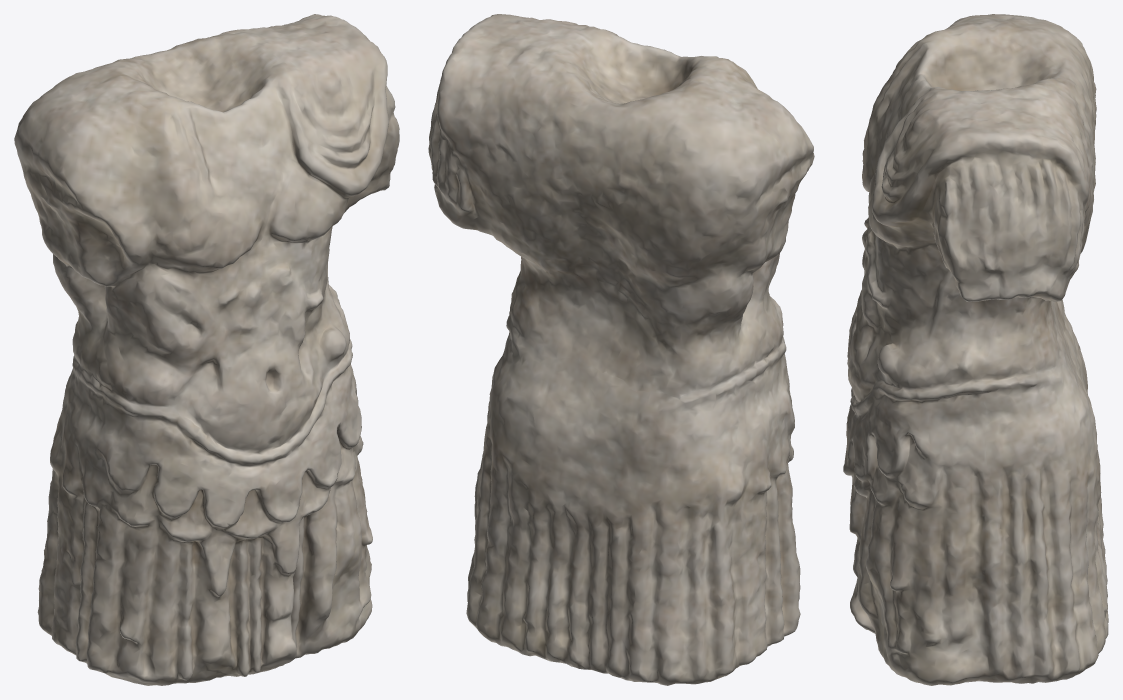
The model's file is 03_ESC_thoracata.glb.
3 views of the same model, side by side, from view 1: azimuth 30°, elevation 25°; view 2: azimuth 150°, elevation 25°; view 3: azimuth 270°, elevation 25° (orthographic).
Parts seen in each view (by area): view 1: THORACATA_LP; view 2: THORACATA_LP; view 3: THORACATA_LP.
Boxes of the visible parts, <box> form: THORACATA_LP: <box>14,14,399,685</box>; THORACATA_LP: <box>428,14,814,685</box>; THORACATA_LP: <box>843,14,1108,685</box>.
Bounding box in the file's own units: 0.6902 × 1.1 × 0.4691.
1 material, 1 textured.
